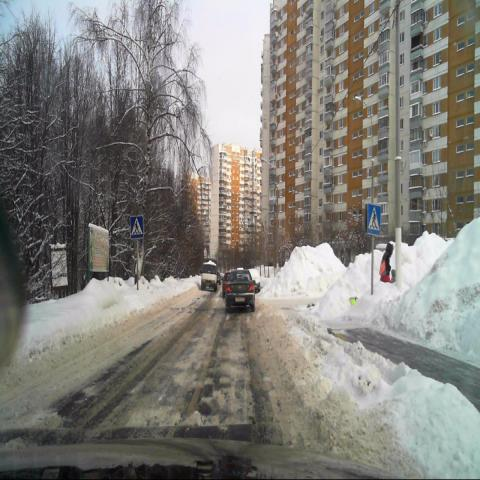5_19_1: (366, 202, 381, 235), (129, 214, 144, 240)
